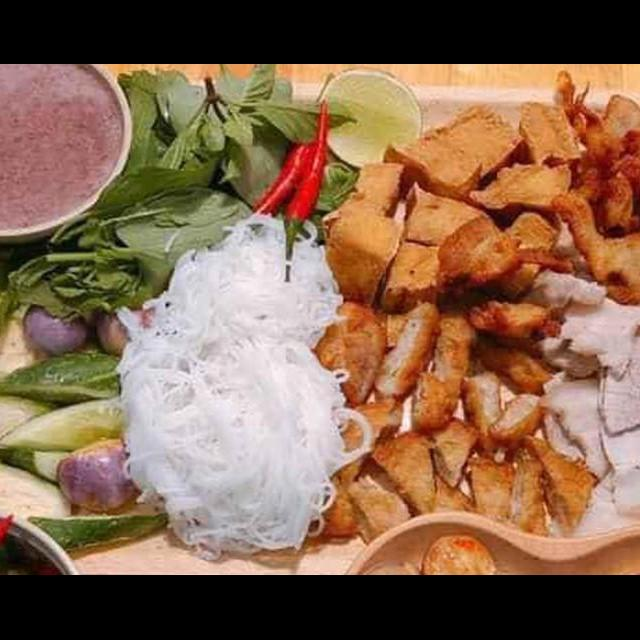bun: (112, 207, 375, 568)
bun dau: (0, 99, 640, 575)
cha com: (307, 292, 604, 550)
dau hu: (372, 94, 538, 224), (310, 153, 421, 314), (368, 174, 498, 310), (465, 152, 578, 224), (511, 84, 598, 174)
thit heo: (536, 270, 640, 541)
